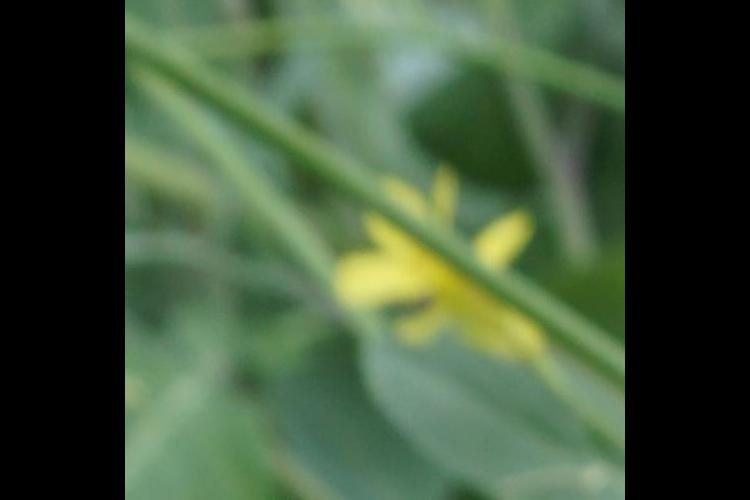yellow: (338, 175, 538, 370)
